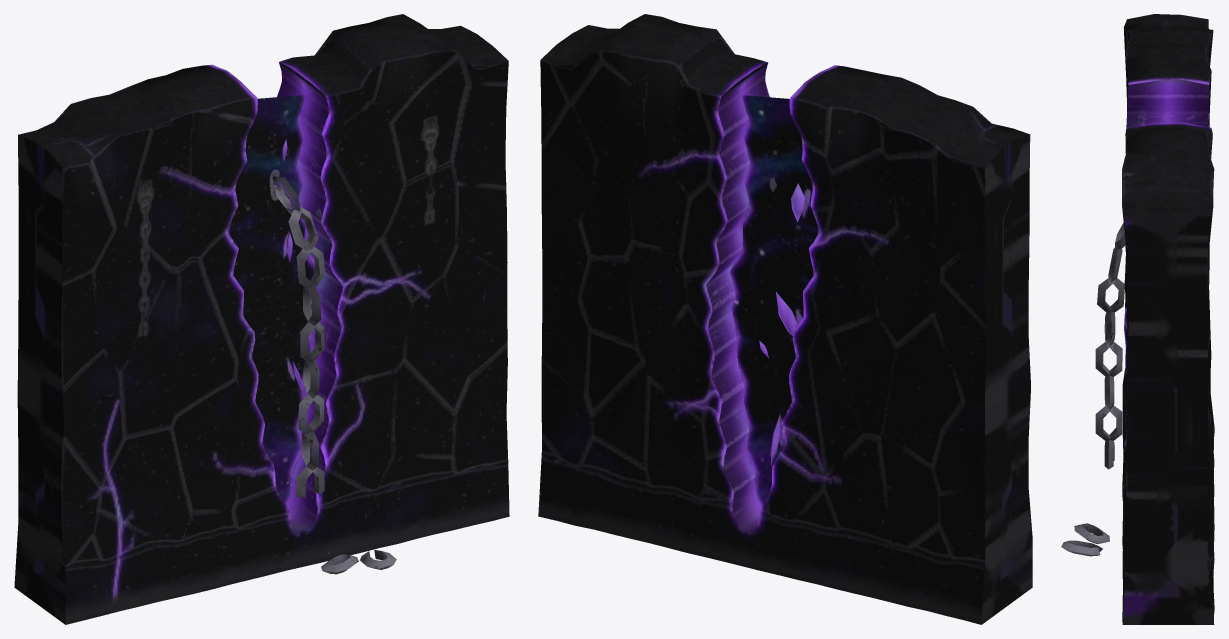
File: abyss_wall_b.glb
3 views of the same model, side by side, from view 1: azimuth 30°, elevation 25°; view 2: azimuth 150°, elevation 25°; view 3: azimuth 270°, elevation 25° (orthographic). The views are drawn at different scales.
Parts seen in each view (by area): view 1: abyss_wall_b; view 2: abyss_wall_b; view 3: abyss_wall_b.
Boxes of the visible parts, box(x1,y1,x2,y2) form: abyss_wall_b: box(14, 14, 509, 624); abyss_wall_b: box(538, 14, 1032, 624); abyss_wall_b: box(1061, 14, 1214, 624).
Size of the model in its own units: 4 by 4.21 by 1.33.
1 material, 1 textured.
